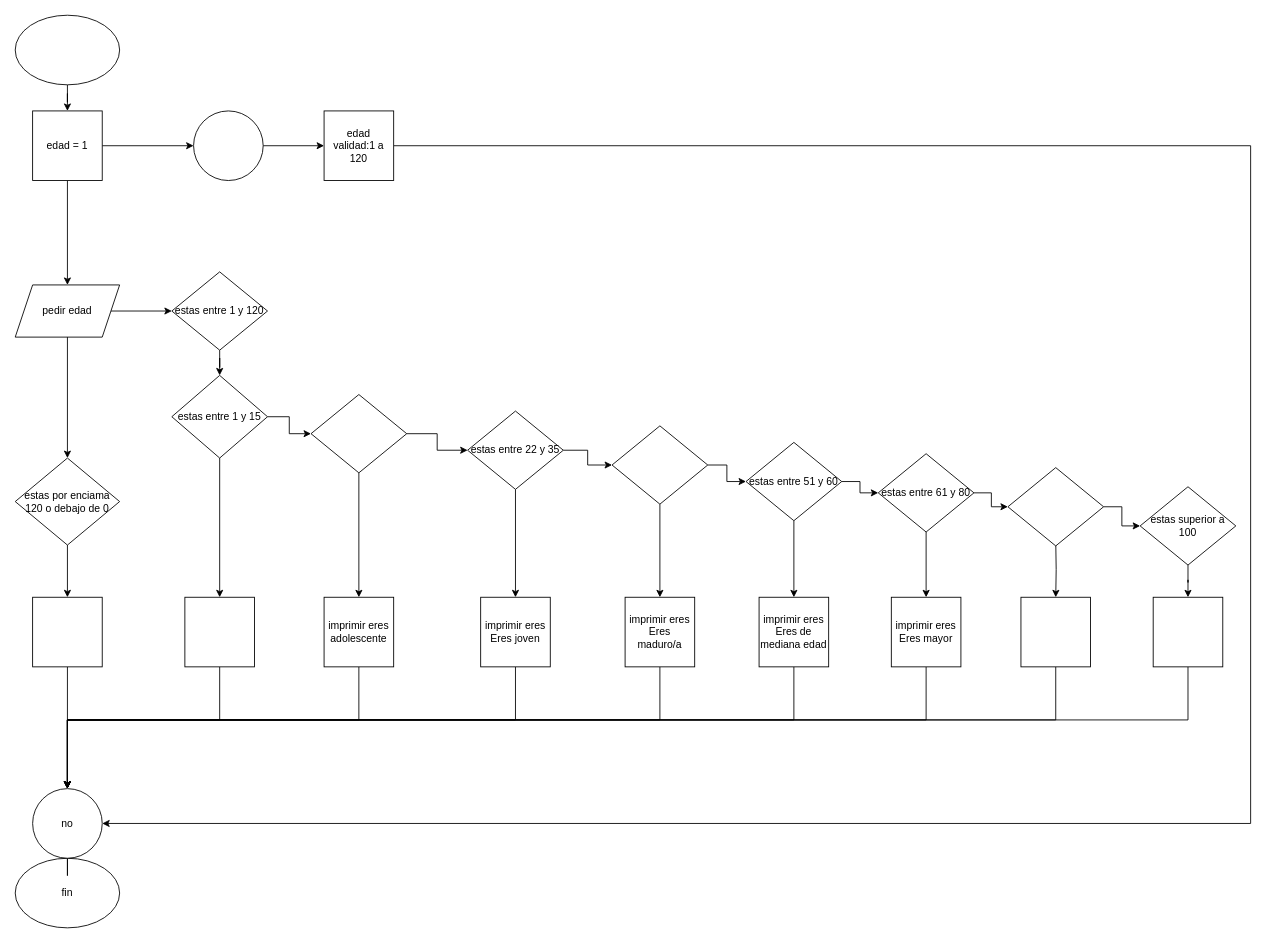
The diagram is 1273 pixels wide and 943 high, and some of its shapes have lost their labels. The shapes that lost their labels are listed below. From the top down, each one's centre as x and y in pixels, then its label:
point (67, 49): inicio
point (228, 145): si
point (358, 433): estas entre 15 y 21
point (659, 464): estas entre 36 y 50
point (1055, 506): estas entre 81 y 100
point (67, 631): imprimir edad no valida
point (219, 631): imprimir eres niñ o
point (1055, 631): imprimir Eres viejo/a
point (1187, 631): imprimir eres centenario/s
